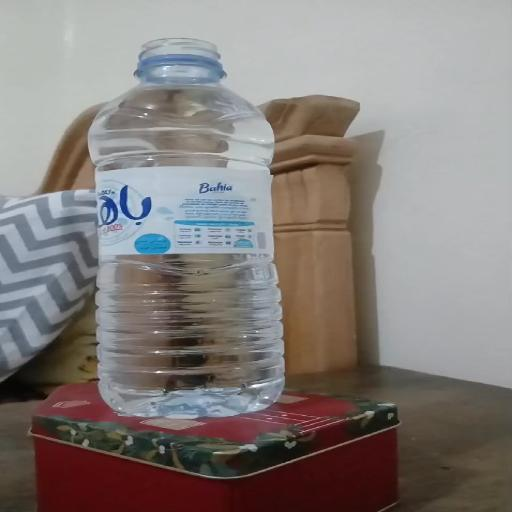bouteille non conformite: (127, 22, 272, 415), (111, 28, 231, 399)
